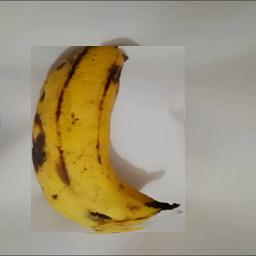Banana Semifresh: (31, 47, 185, 233)
